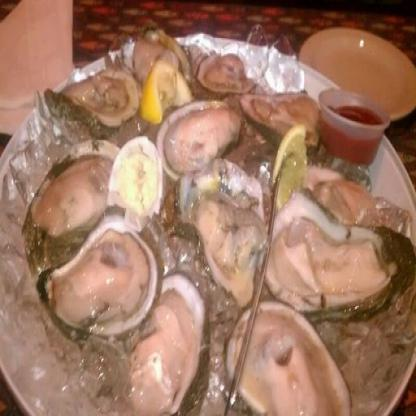oyster: (264, 192, 409, 310), (37, 212, 157, 337), (226, 299, 352, 415), (21, 137, 123, 260), (179, 158, 263, 302), (124, 273, 205, 415), (158, 102, 240, 178)
